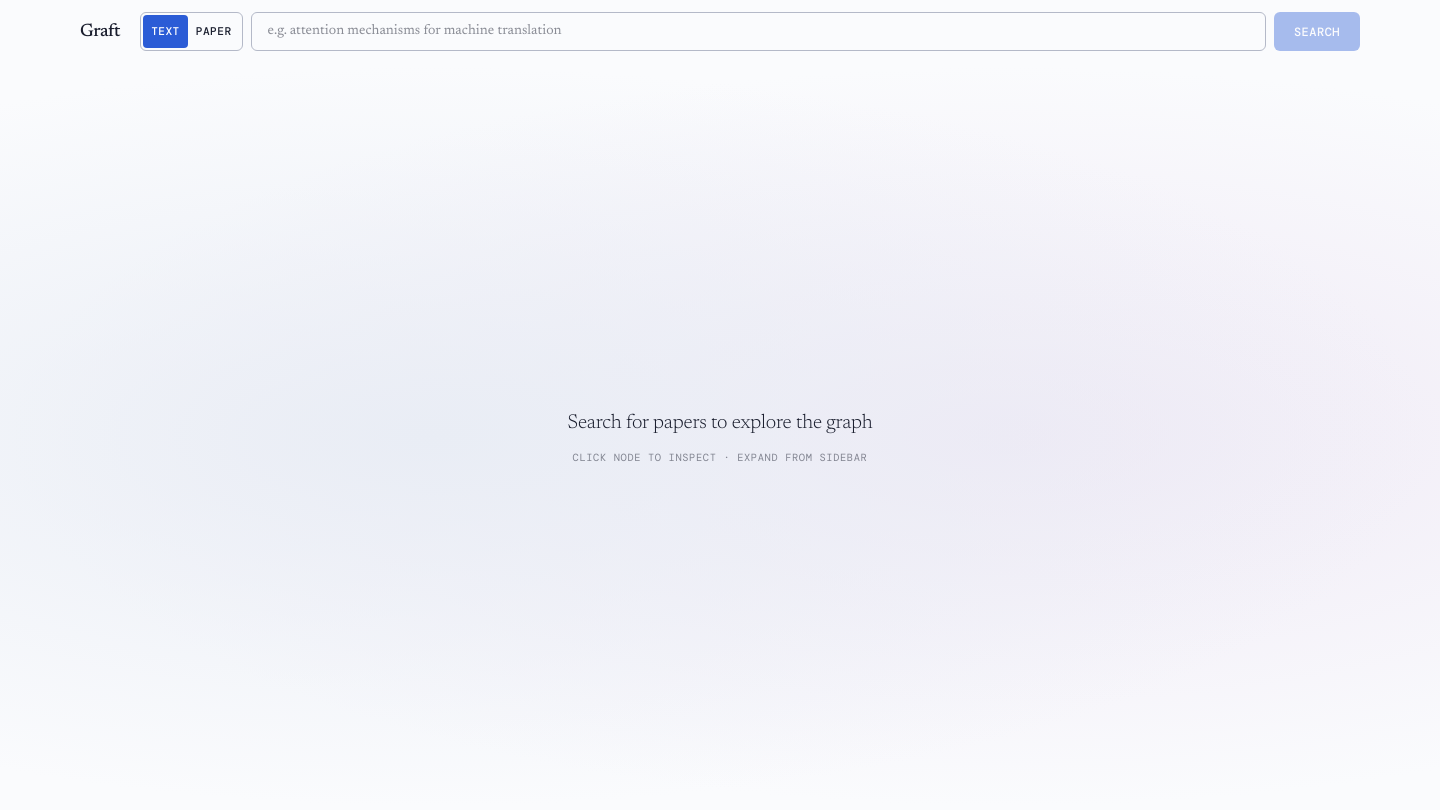
it: App › surfaces search errors
Type "attention" into the field.
click(758, 32); type("attention")  # box [251, 12, 1266, 51]
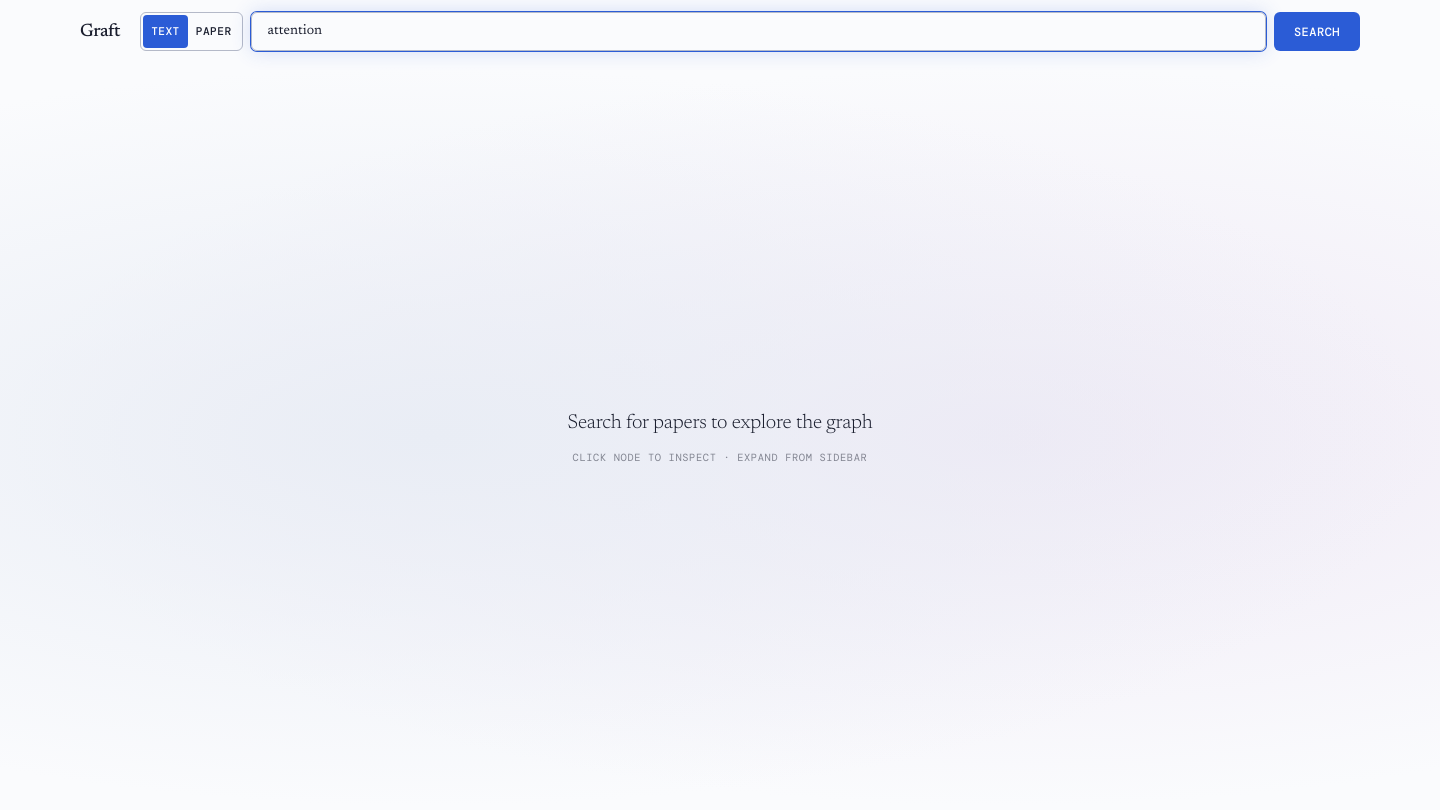
Click the button "Search".
click(1317, 32)  # box [1274, 12, 1360, 51]
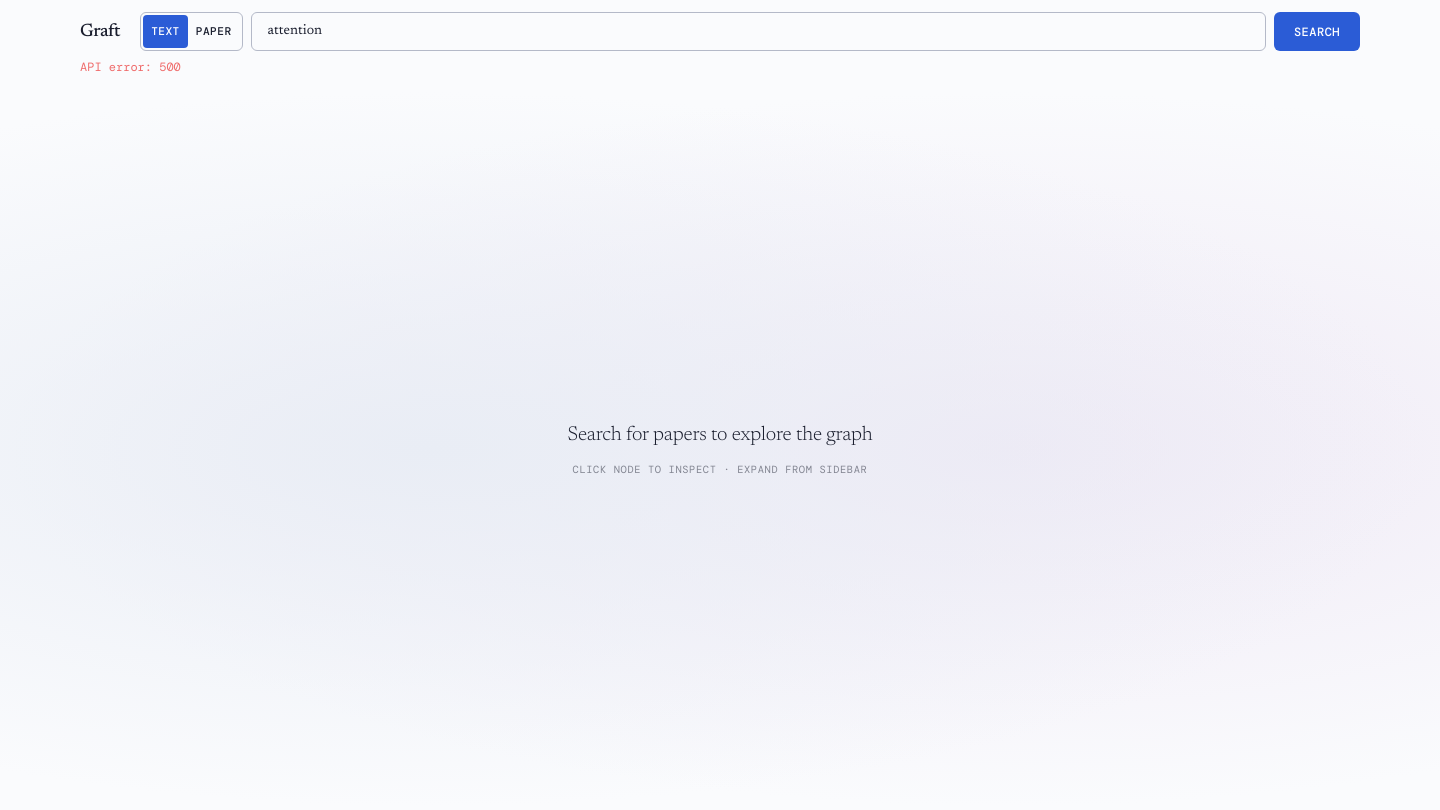
Now the text "API error: 500" is shown, box [80, 59, 181, 75]
